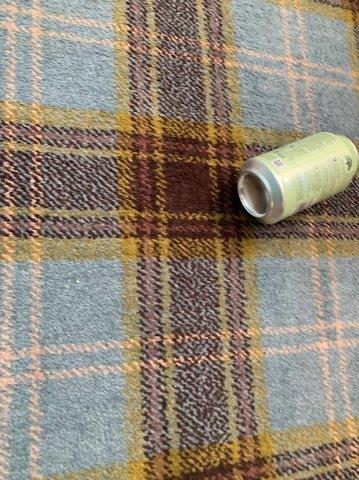kaleng: (239, 133, 358, 223)
